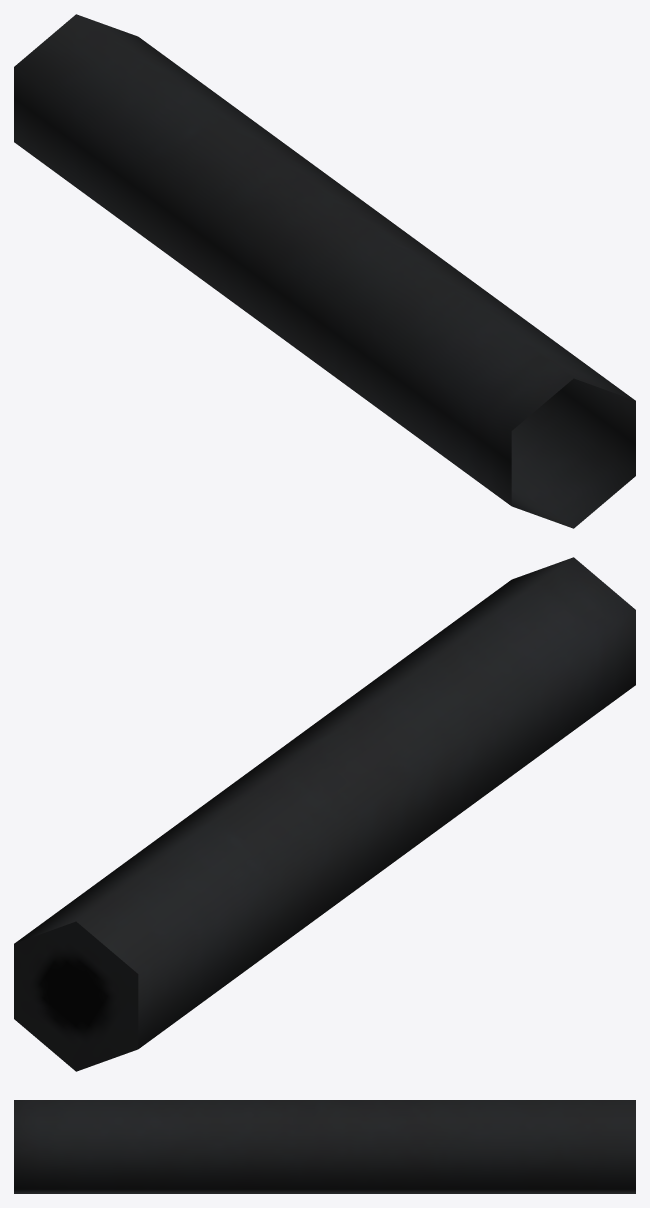
The model's file is Silencer.fbx.
The picture shows the model from 3 angles, top to bottom: view 1: azimuth 30°, elevation 25°; view 2: azimuth 150°, elevation 25°; view 3: azimuth 270°, elevation 25°; orthographic projection. The views are drawn at different scales.
Parts seen in each view (by area): view 1: Silencer; view 2: Silencer; view 3: Silencer.
Boxes of the visible parts, box(x1,y1,x2,y2) form: Silencer: box(14, 14, 635, 528); Silencer: box(14, 557, 635, 1071); Silencer: box(14, 1100, 635, 1193).
Bounding box in the file's own units: 34.64 × 40 × 240.
Materials: 1 (1 with a texture image).
